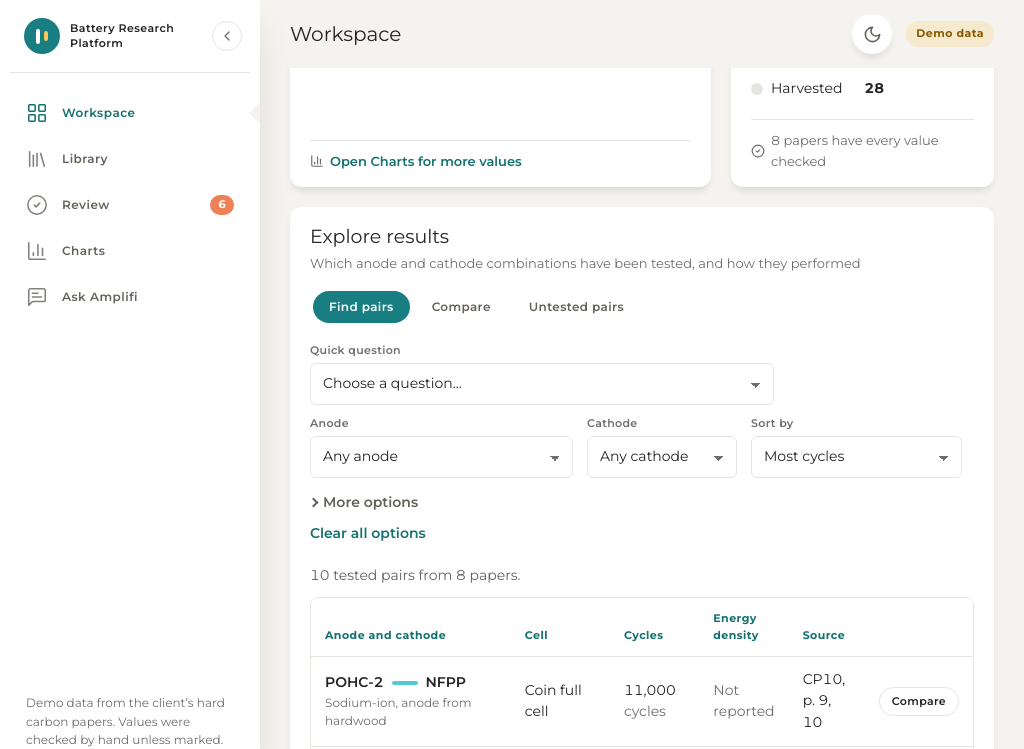
Workspace › filters pairs from a quick question and clears them
(page scrolled)
expect the heading "Explore results" is shown: met, box [310,225,449,248]
Select "Which pairs have low-temperature data?" in the dropdown labelled "Quick question" at (542, 384), box [310,363,774,405]
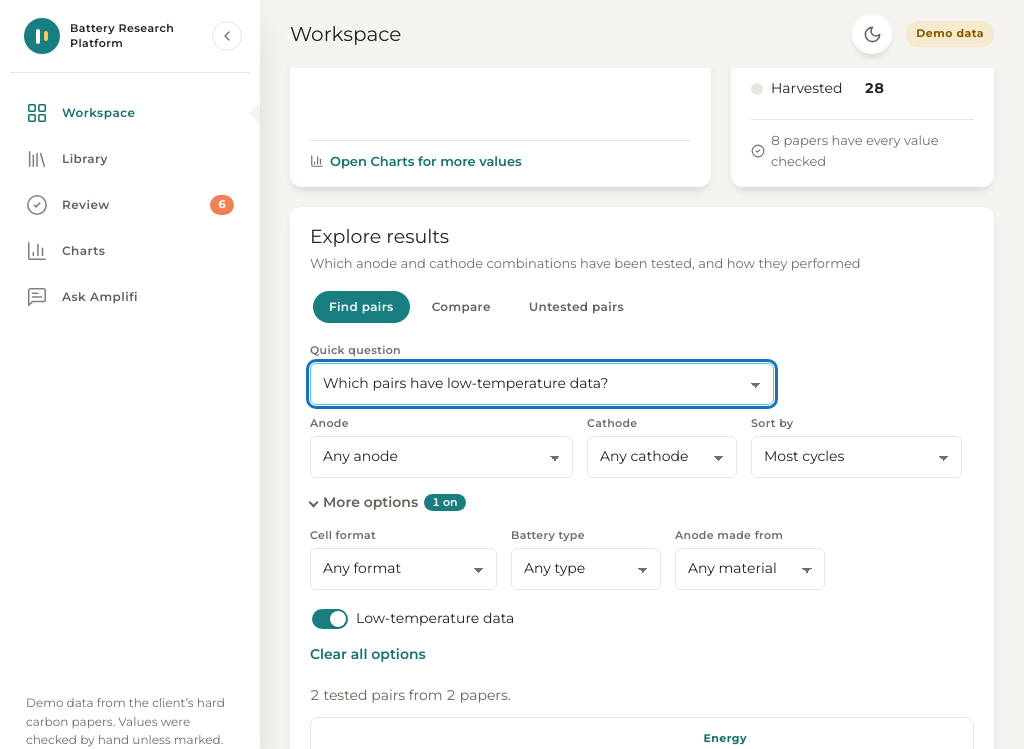
expect the text "2 tested pairs from 2 papers." is shown: met, box [310,686,511,704]
expect the text "1 on" is shown: met, box [424,494,466,511]
Click the button "Clear all options".
click(368, 655)  # box [310,638,426,671]
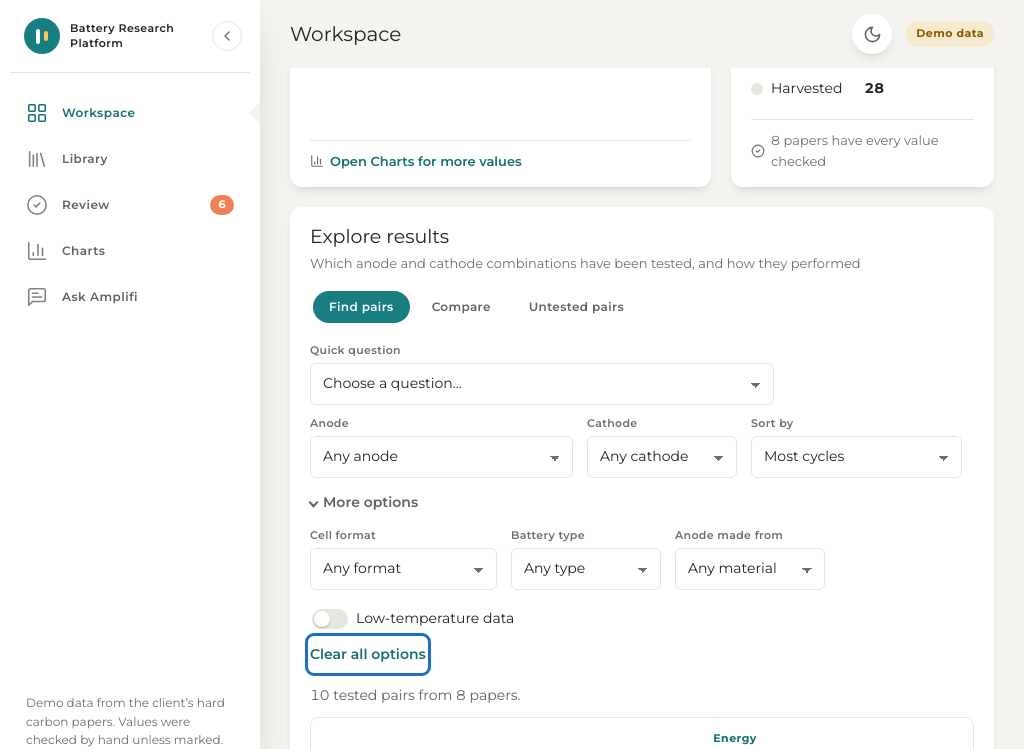
expect the text "10 tested pairs from 8 papers." is shown: met, box [310,686,521,704]
